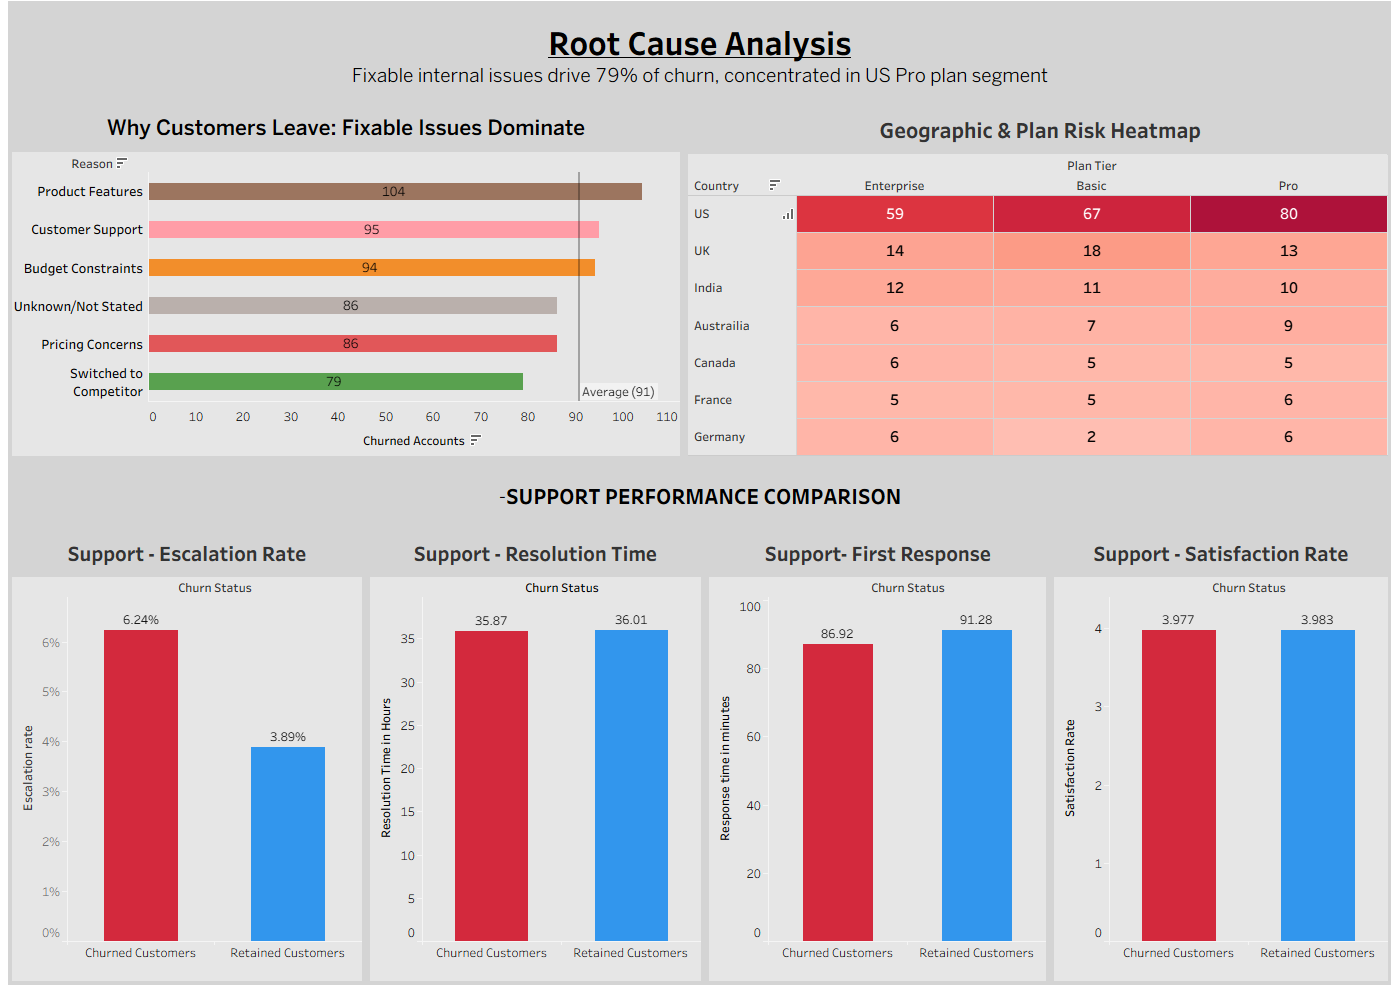

The dashboard page shown, as its layout file describes it:
{"tool":"tableau","page":{"name":"Root Cause Analysis","canvas":[1400,1000],"ordinal":1},"visuals":[{"type":"text","box":[8,8,1384,105.8]},{"type":"worksheet","title":"churn reasons","mark":"Automatic","rows":["reason"],"cols":["churnedaccounts"],"box":[8,113.8,676,353.2]},{"type":"worksheet","title":" Geographic & Plan Risk Heatmap","mark":"Square","rows":["country"],"cols":["plantier"],"box":[684,113.8,708,353.2]},{"type":"text","box":[8,467,1384,71]},{"type":"worksheet","title":"Support - Escalation Rate","mark":"Automatic","rows":["escalationrate"],"cols":["churnstatus"],"box":[8,538,358,454]},{"type":"worksheet","title":"Support - Resolution Time","mark":"Automatic","rows":["avgresolutionhours"],"cols":["churnstatus"],"box":[366,538,338.7,454]},{"type":"worksheet","title":"Support- First Response","mark":"Automatic","rows":["avg1stresponseminutes"],"cols":["churnstatus"],"box":[704.6,538,345.7,454]},{"type":"worksheet","title":"Support - Satisfaction Rate","mark":"Automatic","rows":["avgsatisfaction"],"cols":["churnstatus"],"box":[1050.3,538,341.7,454]}]}

Visuals, with their boxes in screenshot pixels (x1, y1, x2, y2), scaled from the page's 1400x1000 canvas onto the 1391x989 screenshot:
text: bbox(8, 8, 1383, 113)
"churn reasons" worksheet: bbox(8, 113, 680, 462)
" Geographic & Plan Risk Heatmap" worksheet (Square marks): bbox(680, 113, 1383, 462)
text: bbox(8, 462, 1383, 532)
"Support - Escalation Rate" worksheet: bbox(8, 532, 364, 981)
"Support - Resolution Time" worksheet: bbox(364, 532, 700, 981)
"Support- First Response" worksheet: bbox(700, 532, 1044, 981)
"Support - Satisfaction Rate" worksheet: bbox(1044, 532, 1383, 981)
